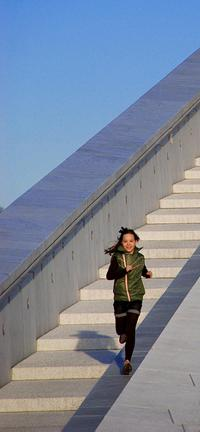person: (106, 228, 153, 377)
